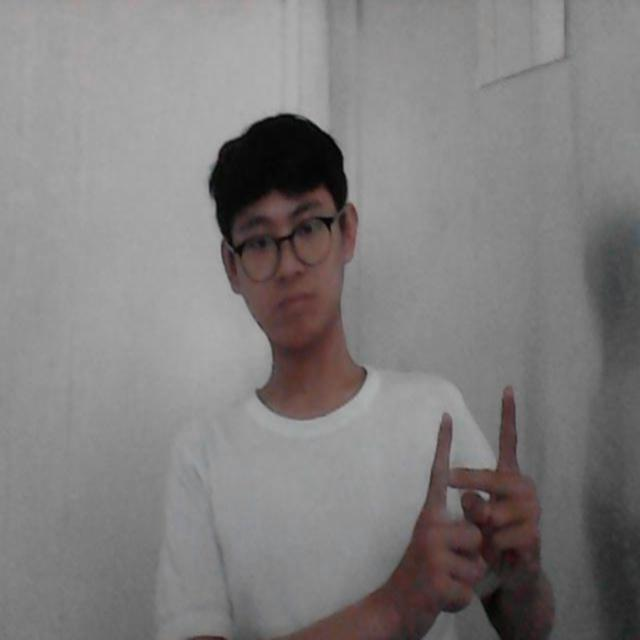H: (422, 377, 546, 600)
